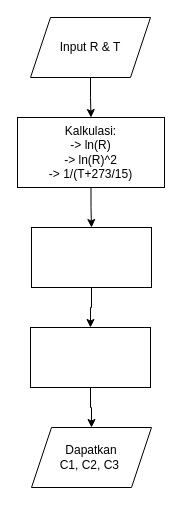
Some shapes in this 182 by 505 pixel diagram are drawn without their labels. The shapes that lost their labels are listed below. From the top down, each one's centre as x and y in pixels, then its label:
At [91,257]: "Bentuk Matriks X & Y".
At [90,357]: "Hitung (X^T X)^(-1) X^T Y".
